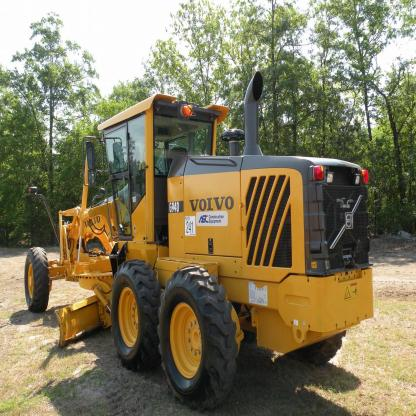bull_dozer/loader/grader: (13, 90, 380, 408)
